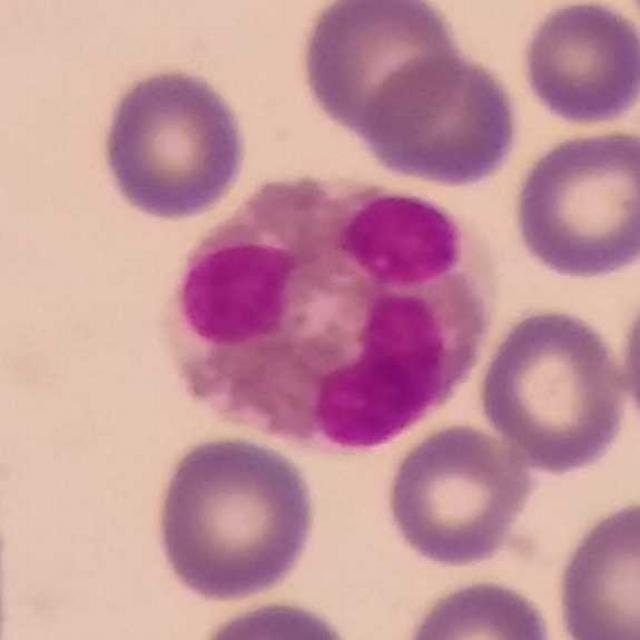Eosinophil: (161, 172, 497, 446)
RBC: (148, 431, 322, 605), (473, 303, 633, 475), (96, 62, 249, 224), (295, 0, 466, 142), (381, 418, 535, 571), (358, 49, 524, 189), (507, 122, 640, 282), (516, 1, 640, 130), (551, 495, 640, 640), (397, 574, 560, 640), (185, 596, 362, 640)
